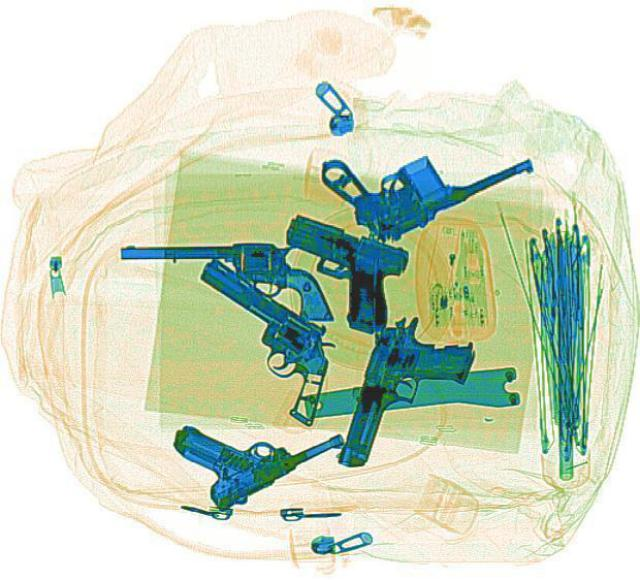Gun: (148, 249, 374, 425), (310, 86, 536, 249), (160, 367, 350, 512), (333, 305, 482, 482), (250, 210, 418, 334), (118, 240, 334, 320)
